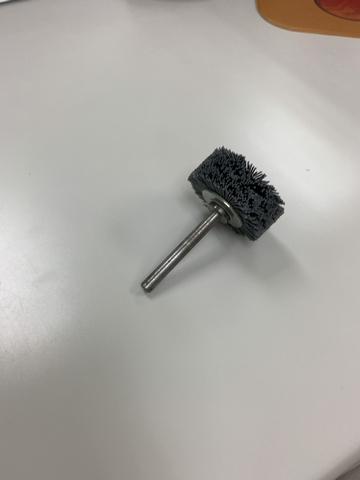Wheel Brush: (117, 133, 309, 298), (168, 145, 289, 255)
